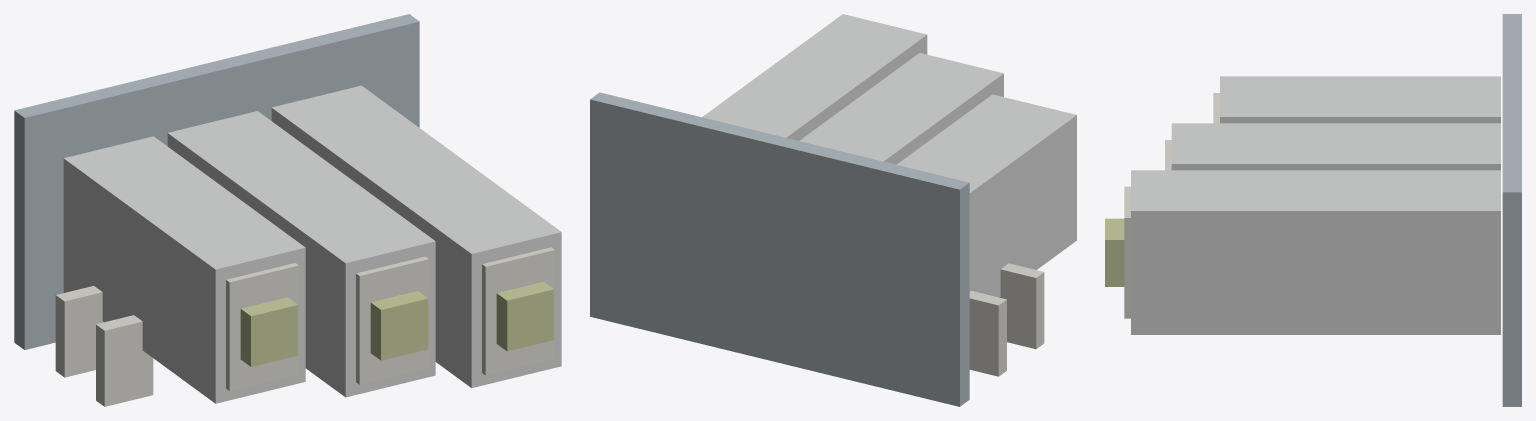
File: 02_modular_complex.glb
3 views of the same model, side by side, from view 1: azimuth 30°, elevation 25°; view 2: azimuth 150°, elevation 25°; view 3: azimuth 270°, elevation 25° (orthographic). The views are drawn at different scales.
Visible parts, largest first — view 1: 02_modular_complex_part_001, 02_modular_complex_part_000, 02_modular_complex_part_009, 02_modular_complex_part_005, 02_modular_complex_part_003, 02_modular_complex_part_007, 02_modular_complex_part_011, 02_modular_complex_part_014, 02_modular_complex_part_013, 02_modular_complex_part_012, 02_modular_complex_part_004, 02_modular_complex_part_008; view 2: 02_modular_complex_part_000, 02_modular_complex_part_001, 02_modular_complex_part_009, 02_modular_complex_part_005, 02_modular_complex_part_014, 02_modular_complex_part_013; view 3: 02_modular_complex_part_009, 02_modular_complex_part_005, 02_modular_complex_part_001, 02_modular_complex_part_000, 02_modular_complex_part_012, 02_modular_complex_part_011.
Boxes of the visible parts, left/top/right/bottom form: 02_modular_complex_part_001: left=63, top=136, right=305, bottom=403; 02_modular_complex_part_000: left=14, top=14, right=419, bottom=349; 02_modular_complex_part_009: left=271, top=85, right=561, bottom=387; 02_modular_complex_part_005: left=167, top=111, right=435, bottom=397; 02_modular_complex_part_003: left=226, top=263, right=298, bottom=390; 02_modular_complex_part_007: left=356, top=256, right=428, bottom=384; 02_modular_complex_part_011: left=482, top=247, right=554, bottom=375; 02_modular_complex_part_014: left=96, top=315, right=153, bottom=406; 02_modular_complex_part_013: left=55, top=286, right=103, bottom=377; 02_modular_complex_part_012: left=496, top=281, right=554, bottom=351; 02_modular_complex_part_004: left=240, top=297, right=298, bottom=366; 02_modular_complex_part_008: left=370, top=291, right=428, bottom=360; 02_modular_complex_part_000: left=590, top=92, right=969, bottom=406; 02_modular_complex_part_001: left=897, top=94, right=1076, bottom=297; 02_modular_complex_part_009: left=702, top=14, right=927, bottom=140; 02_modular_complex_part_005: left=799, top=53, right=1003, bottom=164; 02_modular_complex_part_014: left=999, top=263, right=1044, bottom=349; 02_modular_complex_part_013: left=969, top=291, right=1006, bottom=376; 02_modular_complex_part_009: left=1131, top=170, right=1500, bottom=334; 02_modular_complex_part_005: left=1171, top=123, right=1500, bottom=170; 02_modular_complex_part_001: left=1220, top=76, right=1500, bottom=123; 02_modular_complex_part_000: left=1502, top=14, right=1521, bottom=406; 02_modular_complex_part_012: left=1105, top=218, right=1124, bottom=286; 02_modular_complex_part_011: left=1124, top=186, right=1130, bottom=318.
Bounding box in the file's own units: 5.7 × 3.2 × 5.63.
